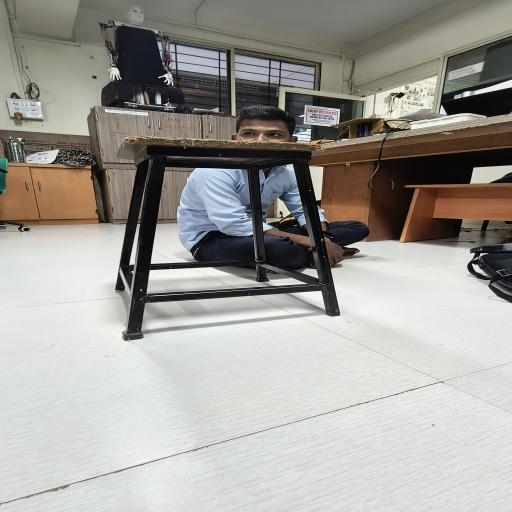survivor: (176, 105, 370, 275)
